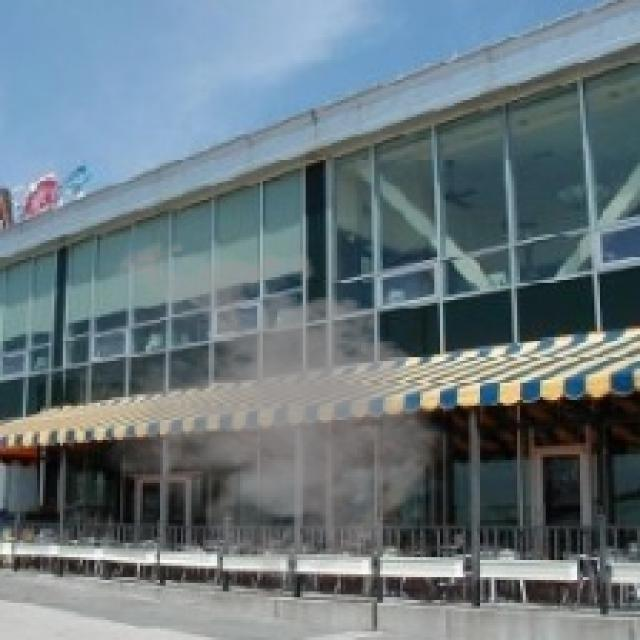Smoke: (48, 232, 466, 588)
